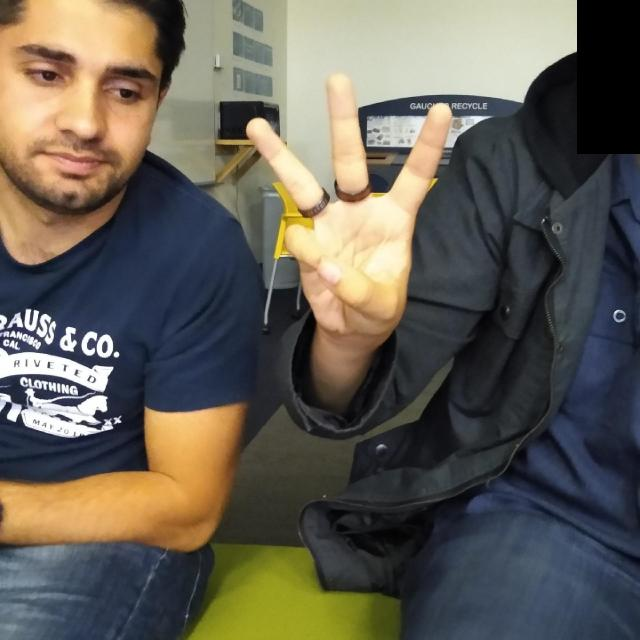W: (220, 47, 481, 360)
